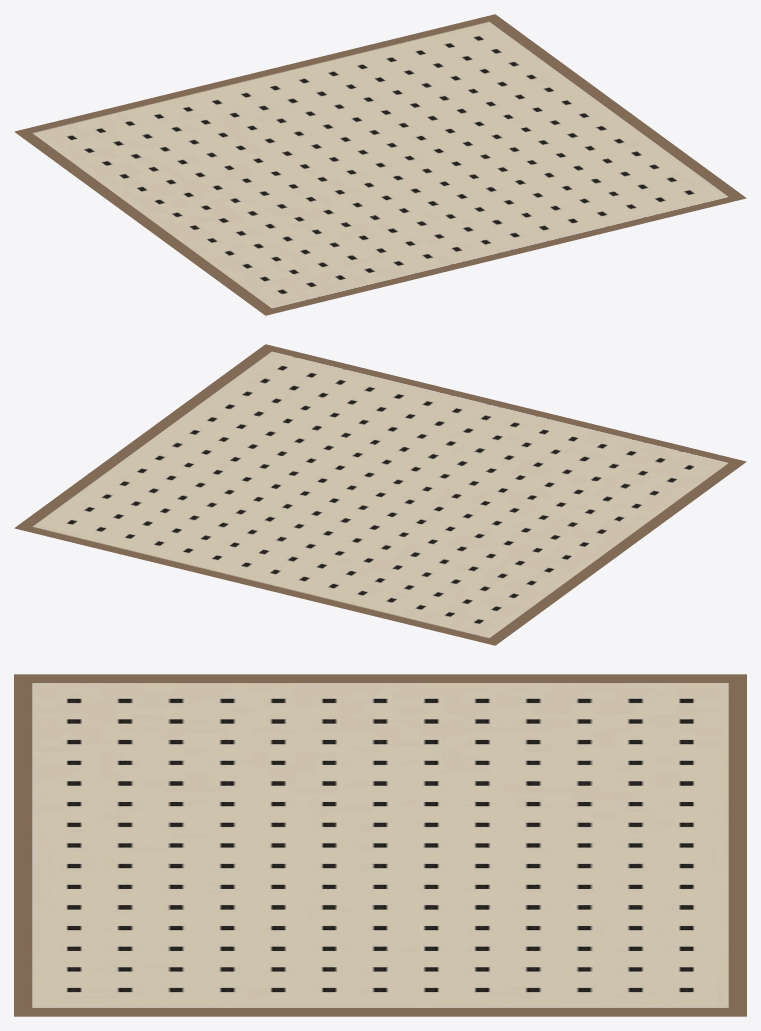
The model's file is carpet.fbx.
3 views of the same model, one above another, from view 1: azimuth 30°, elevation 25°; view 2: azimuth 150°, elevation 25°; view 3: azimuth 270°, elevation 25° (orthographic). The views are drawn at different scales.
Visible parts, largest first — view 1: pPlane3; view 2: pPlane3; view 3: pPlane3.
Part boxes in pixels (bbox=[...]): pPlane3: bbox=[14, 14, 746, 315]; pPlane3: bbox=[14, 344, 746, 645]; pPlane3: bbox=[14, 674, 746, 1016].
Bounding box in the file's own units: 11.11 × 0 × 10.06.
